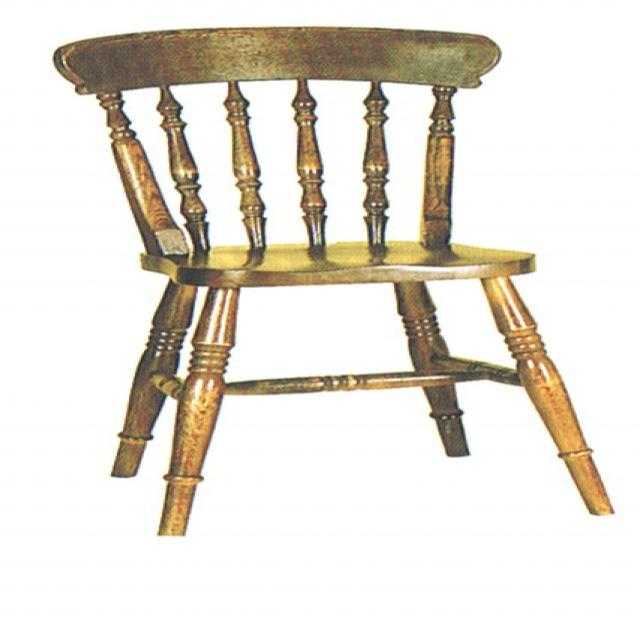Chair: (0, 14, 640, 563)
